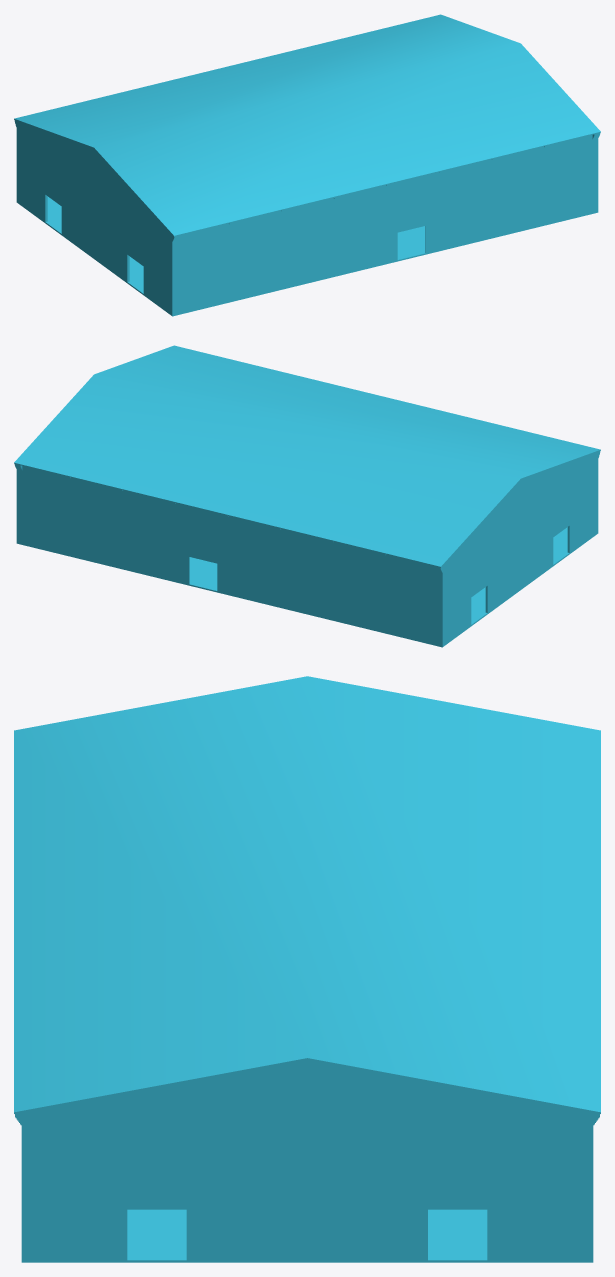
3 renders of one model, top to bottom at view 1: azimuth 30°, elevation 25°; view 2: azimuth 150°, elevation 25°; view 3: azimuth 270°, elevation 25°, orthographic. The views are drawn at different scales.
Visible parts, largest first — view 1: Default; view 2: Default; view 3: Default.
Part boxes in pixels (x1,y1,x2,y2): Default: [14, 14, 600, 316]; Default: [14, 345, 600, 647]; Default: [14, 676, 600, 1262].
Bounding box in the file's own units: 48700 × 12200 × 31640.
